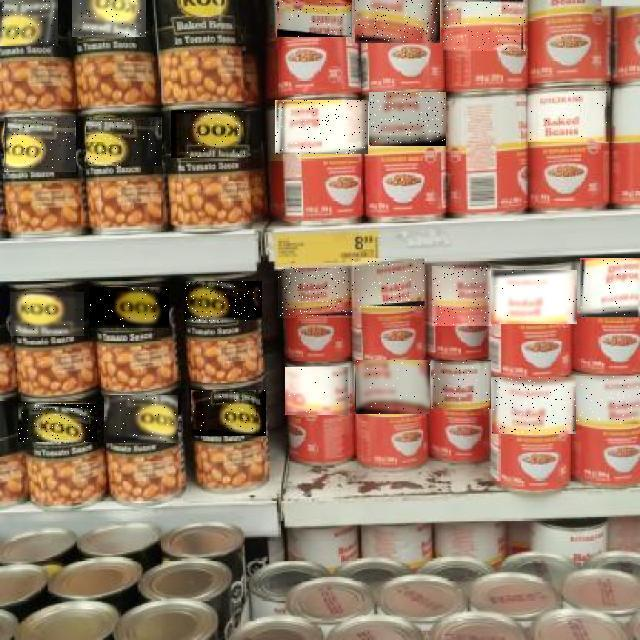Beans: (275, 100, 368, 154), (492, 377, 576, 434), (491, 270, 577, 324), (528, 89, 610, 143), (443, 0, 525, 51), (369, 92, 446, 146), (356, 360, 430, 414), (4, 117, 76, 172), (278, 267, 354, 318), (171, 111, 251, 159), (86, 117, 162, 166), (352, 258, 426, 308), (355, 0, 440, 43), (433, 266, 493, 326), (104, 395, 178, 443), (580, 258, 640, 317), (191, 390, 266, 436), (89, 288, 169, 330), (11, 292, 85, 336), (286, 367, 352, 415), (184, 282, 262, 322), (575, 376, 640, 424), (18, 403, 97, 442), (431, 360, 491, 409), (276, 0, 352, 37), (72, 0, 146, 37), (0, 0, 58, 46)
